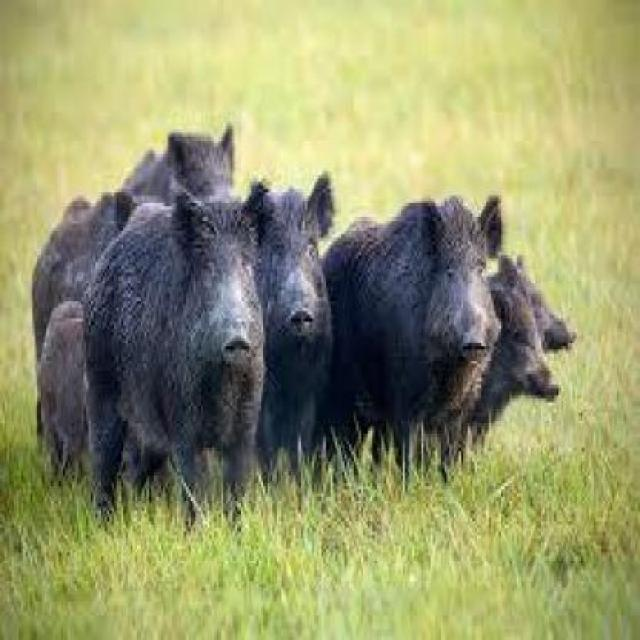wildboar: (79, 178, 272, 532), (300, 189, 505, 480), (106, 122, 240, 436), (28, 193, 195, 422), (228, 168, 340, 488), (395, 268, 563, 472), (420, 247, 577, 462), (35, 297, 138, 486)
